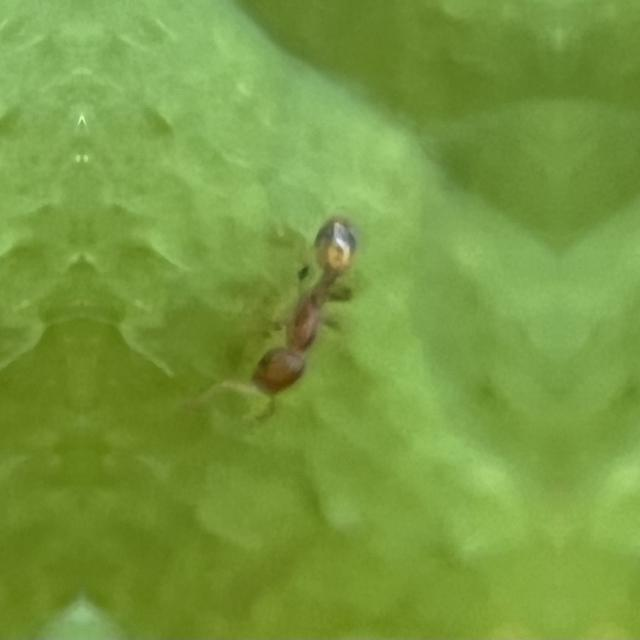Temnothorax: (216, 194, 380, 422)
